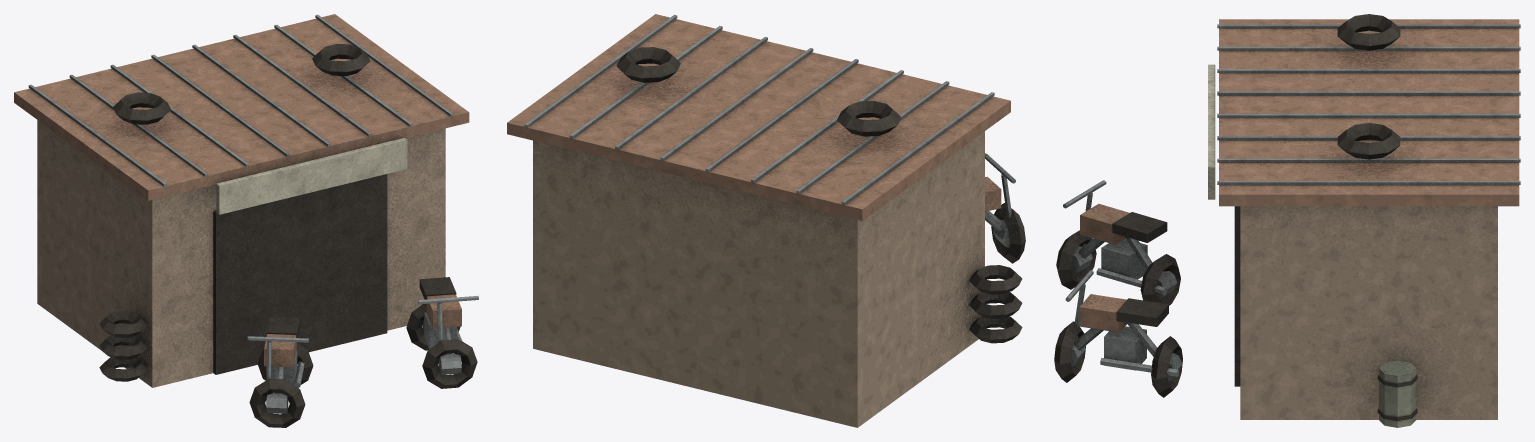
Rendered from BikerCenter.fbx.
3 views of the same model, side by side, from view 1: azimuth 30°, elevation 25°; view 2: azimuth 150°, elevation 25°; view 3: azimuth 270°, elevation 25° (orthographic). The views are drawn at different scales.
Parts seen in each view (by area): view 1: BikerCenter; view 2: BikerCenter; view 3: BikerCenter.
Part boxes in pixels (left/top/right/bottom): BikerCenter: left=14, top=14, right=478, bottom=427; BikerCenter: left=507, top=14, right=1025, bottom=427; BikerCenter: left=1054, top=14, right=1520, bottom=427.
Bounding box in the file's own units: 3.31 × 2.01 × 3.26.
1 material, 1 textured.
